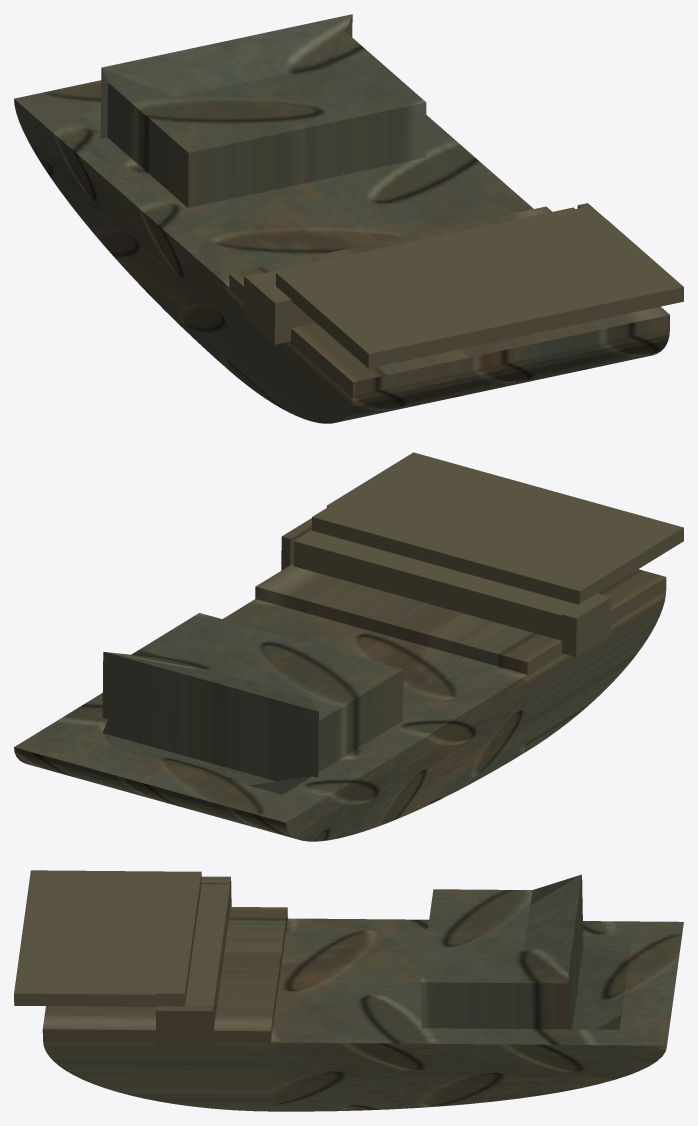
File: finalTank.obj
3 renders of one model, top to bottom at view 1: azimuth 30°, elevation 25°; view 2: azimuth 150°, elevation 25°; view 3: azimuth 270°, elevation 25°, orthographic. The views are drawn at different scales.
Parts seen in each view (by area): view 1: Cube; view 2: Cube; view 3: Cube.
Part boxes in pixels (box(x1,y1,x2,y2)): Cube: box(14, 14, 683, 423); Cube: box(14, 452, 683, 841); Cube: box(14, 870, 683, 1111).
Bounding box in the file's own units: 5.83 × 2.54 × 11.55.
